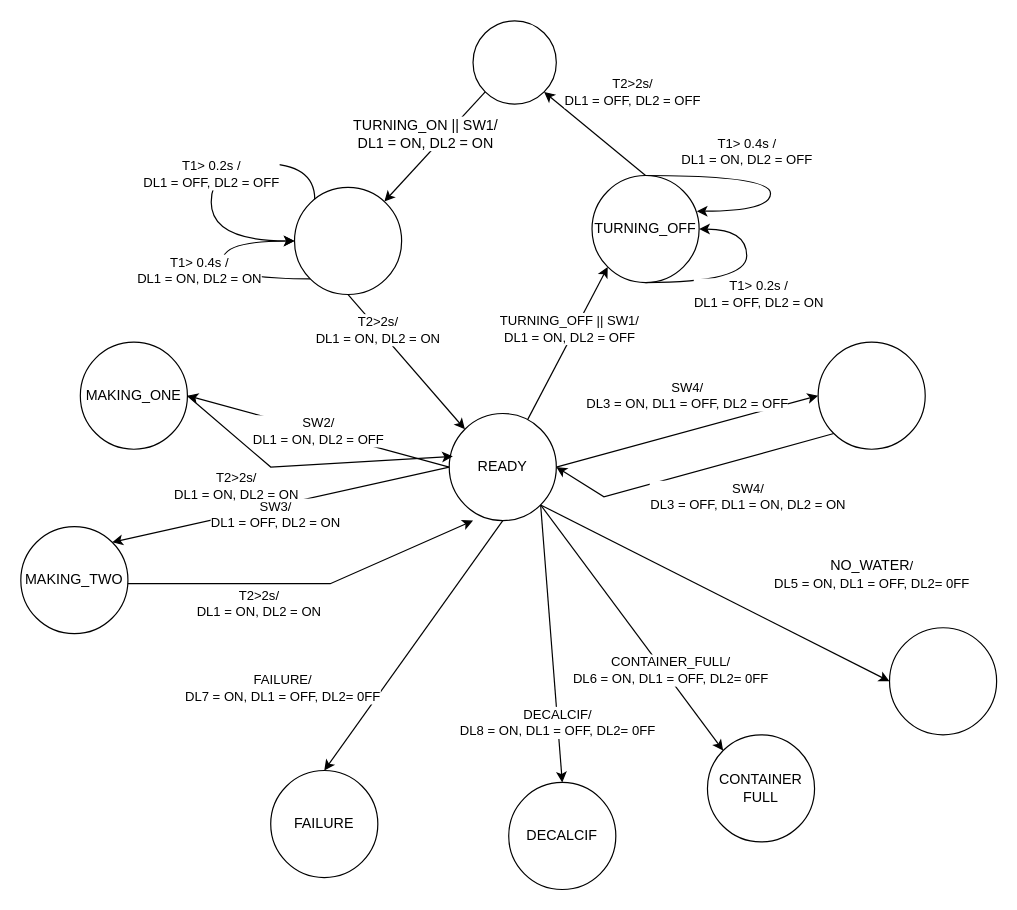
Some shapes in this 1017 by 910 pixel diagram are drawn without their labels. Each missing label, with the centre of its shape:
NO_WATER: point 942,681
OFF: point 514,62
STEAM: point 871,395
TURNING_ON: point 347,240
